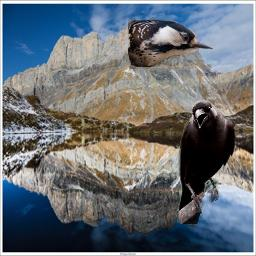Crow: (177, 100, 235, 224)
Woodpecker: (128, 16, 213, 69)
